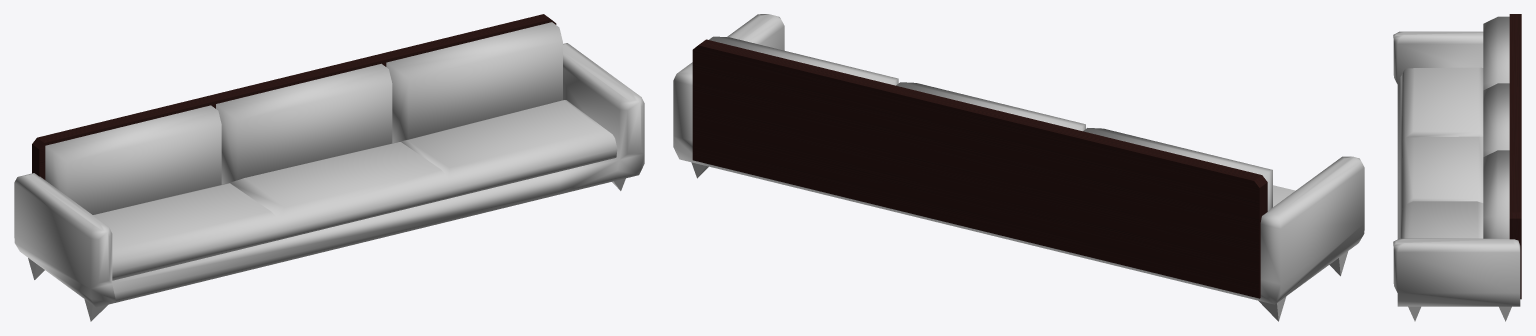
File: Long_Sofa_E_2.FBX
3 renders of one model, left to right at view 1: azimuth 30°, elevation 25°; view 2: azimuth 150°, elevation 25°; view 3: azimuth 270°, elevation 25°, orthographic. The views are drawn at different scales.
Visible parts, largest first — view 1: Long_Sofa; view 2: Long_Sofa; view 3: Long_Sofa.
Boxes of the visible parts, x1,y1,x2,y2 form: Long_Sofa: [14, 14, 644, 321]; Long_Sofa: [673, 14, 1364, 321]; Long_Sofa: [1393, 14, 1521, 321].
Bounding box in the file's own units: 685 × 157 × 171.
